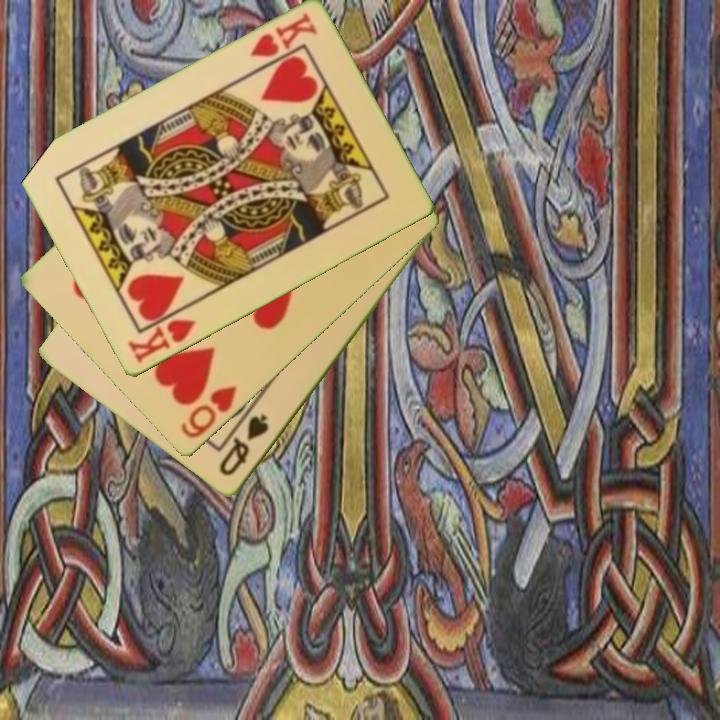6h: (177, 382, 240, 442)
Kh: (124, 303, 199, 367), (245, 9, 321, 61)
Qs: (215, 410, 272, 480)
